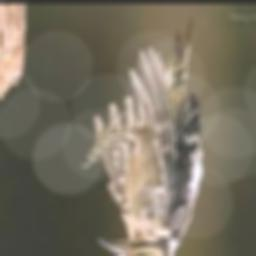Woodpecker: (82, 20, 205, 256)
